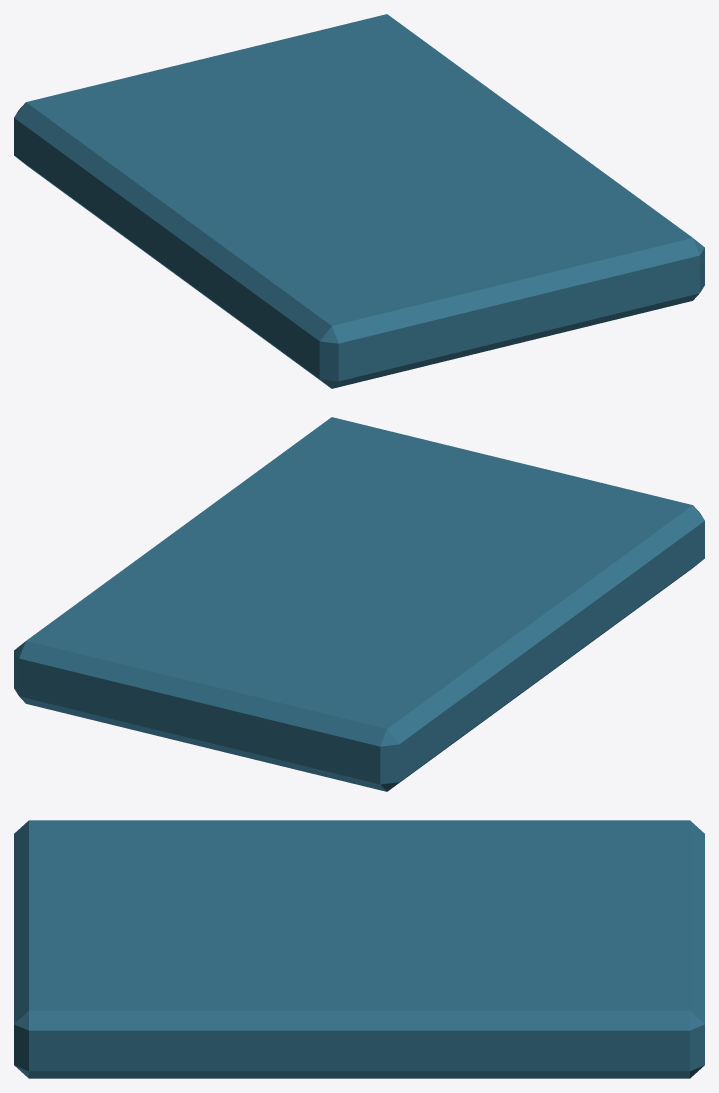
The model's file is set_book_stack.glb.
3 views of the same model, one above another, from view 1: azimuth 30°, elevation 25°; view 2: azimuth 150°, elevation 25°; view 3: azimuth 270°, elevation 25° (orthographic). The views are drawn at different scales.
Parts seen in each view (by area): view 1: set_book_stack; view 2: set_book_stack; view 3: set_book_stack.
Part boxes in pixels (x1,y1,x2,y2): set_book_stack: [14, 14, 704, 388]; set_book_stack: [14, 417, 704, 791]; set_book_stack: [14, 820, 704, 1078].
Bounding box in the file's own units: 0.16 × 0.025 × 0.23.
